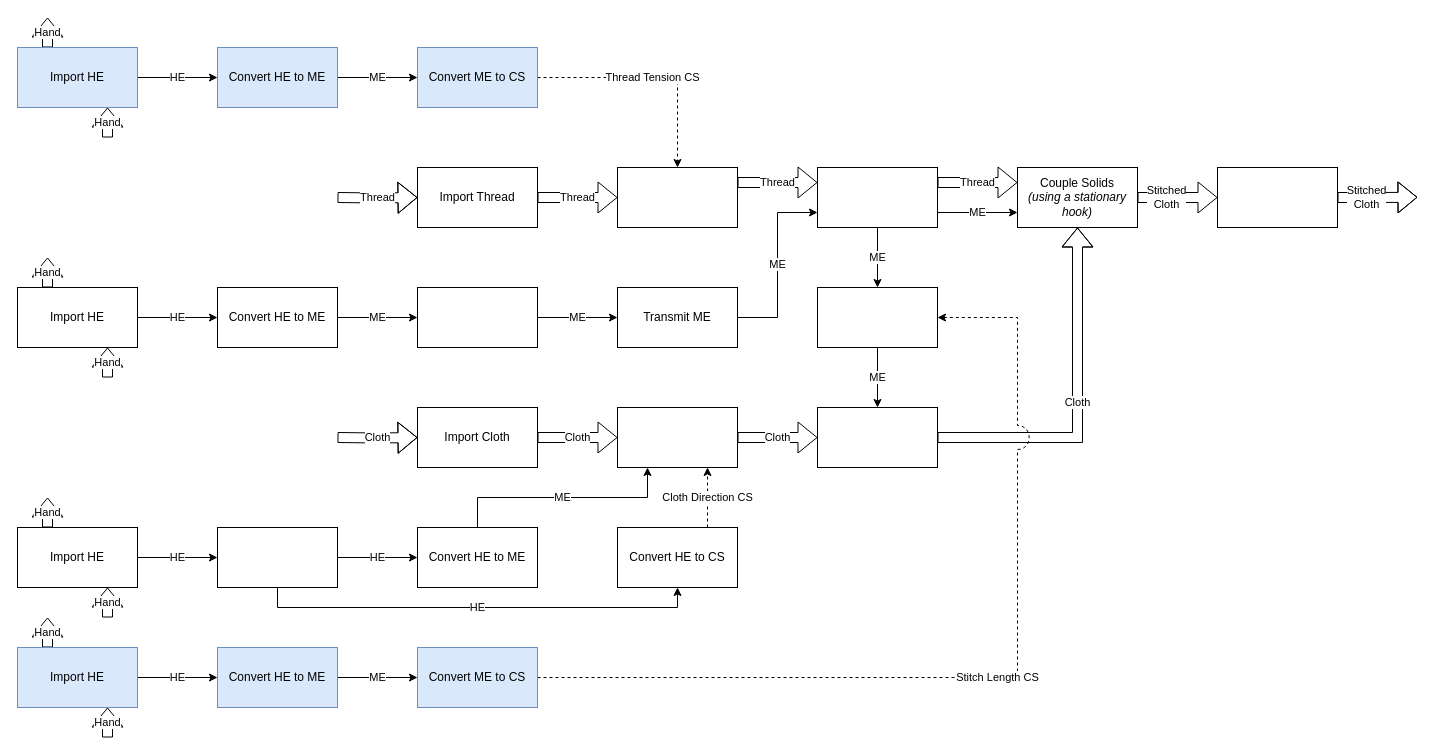
Some shapes in this 1435 by 754 pixel diagram are drawn without their labels. Each missing label, with the centre of its shape:
Change ME: (x=477, y=317)
Distribute HE: (x=277, y=557)
Export Solid: (x=1277, y=197)
Guide Cloth: (x=877, y=437)
Guide Thread (some thread is on a static hook which forms the stitch): (x=877, y=197)
Regulate Cloth: (x=677, y=437)
Regulate ME: (x=877, y=317)
Regulate Thread (shows a bobbin tensioning device in drawings): (x=677, y=197)
